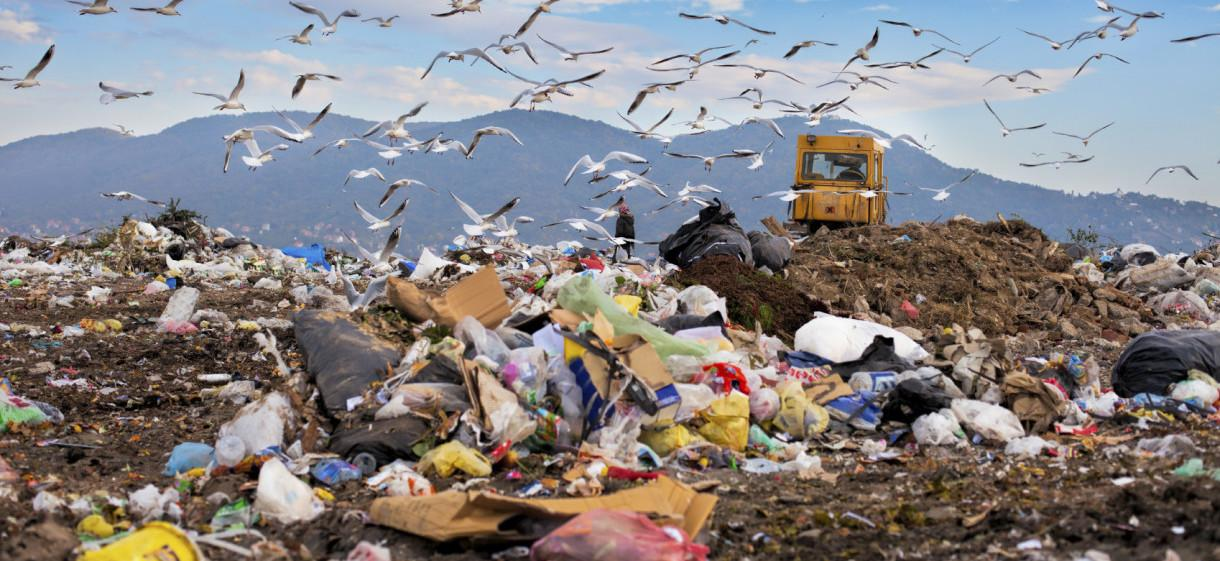garbage: (0, 204, 1220, 561)
